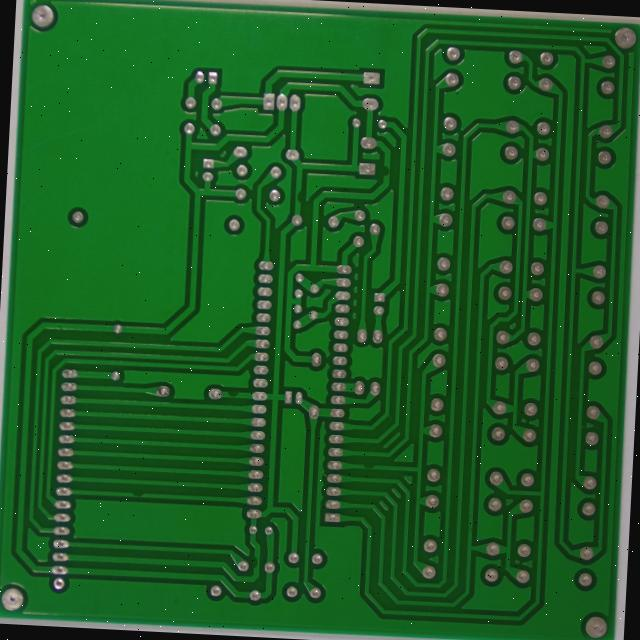mouse_bite: (132, 502, 153, 518), (301, 190, 315, 213), (231, 399, 251, 415), (371, 475, 392, 490), (391, 166, 406, 187)
